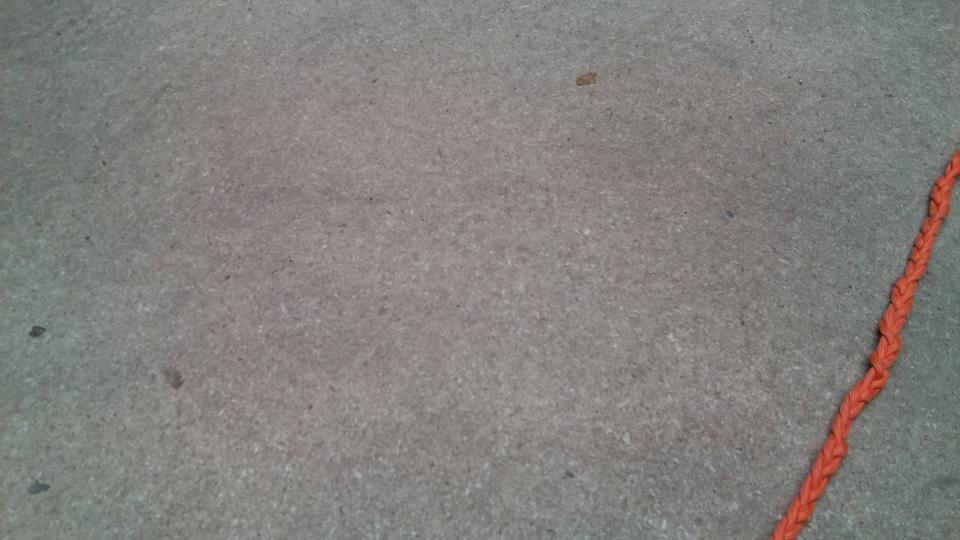rope: (780, 163, 960, 539)
